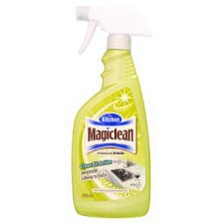cleaning_solution: (69, 3, 153, 221)
